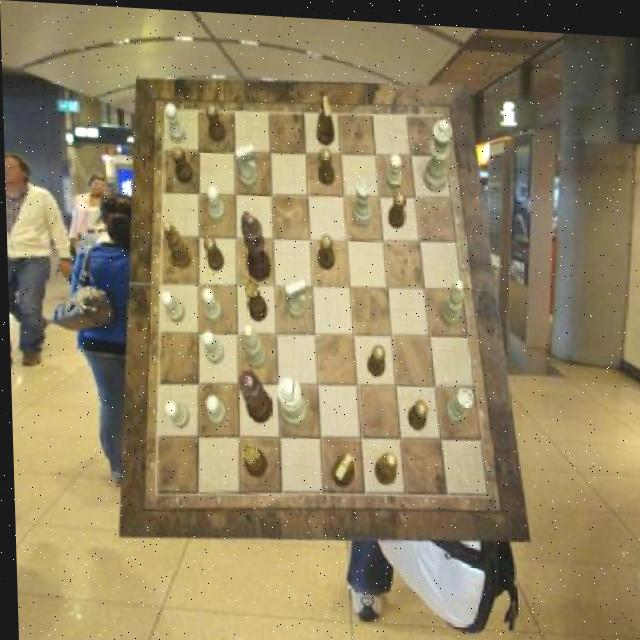bishop: (162, 220, 192, 268), (373, 447, 397, 482)
black-bishop: (240, 208, 271, 278)
black-king: (316, 92, 334, 143), (328, 447, 352, 483)
black-knight: (171, 143, 193, 182), (205, 100, 226, 140), (202, 234, 223, 269), (387, 187, 406, 224), (317, 144, 335, 182), (366, 341, 385, 375), (406, 395, 426, 427), (316, 230, 333, 265)
black-pawn: (236, 366, 270, 422)
black-queen: (243, 276, 267, 319), (241, 441, 265, 476)
black-rook: (438, 274, 464, 323), (241, 322, 266, 368)
white-bishop: (274, 372, 306, 425)
white-king: (234, 140, 257, 187), (283, 276, 305, 317)
white-knight: (165, 102, 186, 143), (200, 327, 223, 363), (159, 288, 183, 322), (200, 284, 221, 320), (206, 182, 224, 220), (163, 400, 188, 427), (204, 392, 225, 424), (385, 149, 402, 184)
white-pawn: (422, 114, 455, 189)
white-queen: (442, 382, 471, 421), (351, 174, 372, 221)
